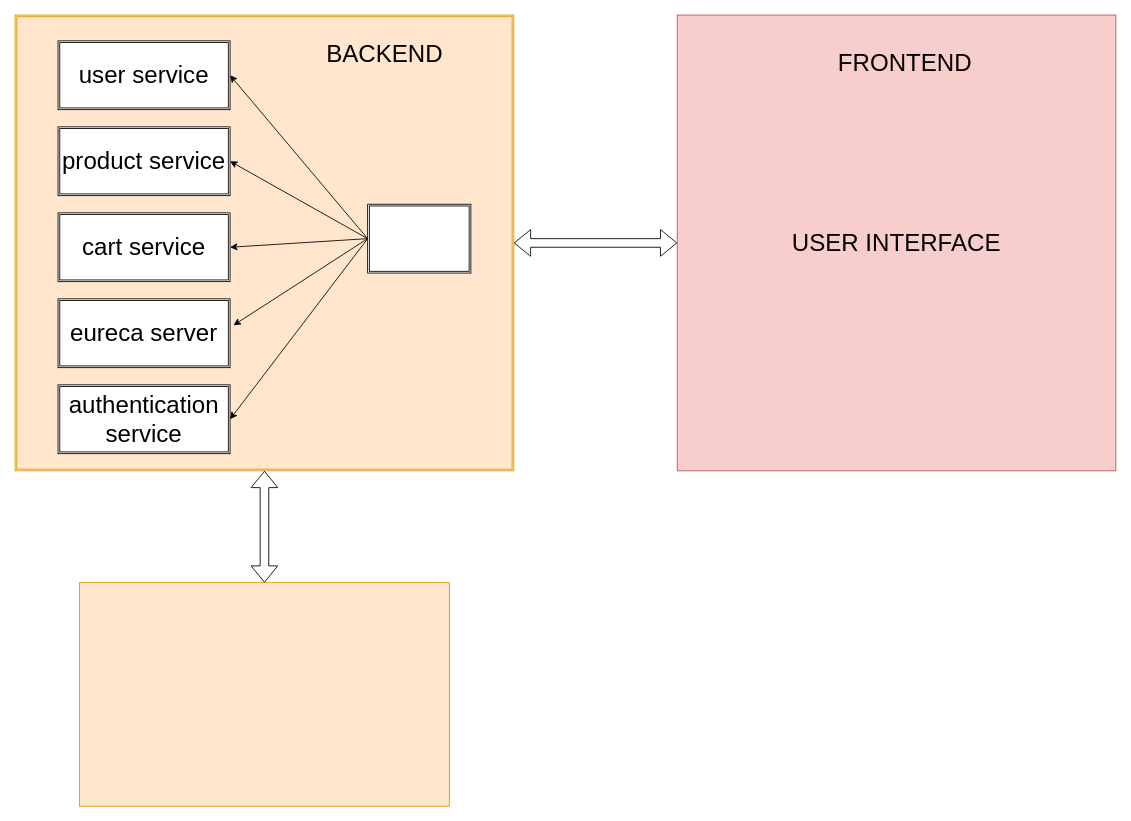
Image size: 1131x821. Some labels were removed from this diagram. The centre of each missing label's shape, as x and y in pixels:
api gateway: point (419, 238)
DATABASE: point (264, 694)
